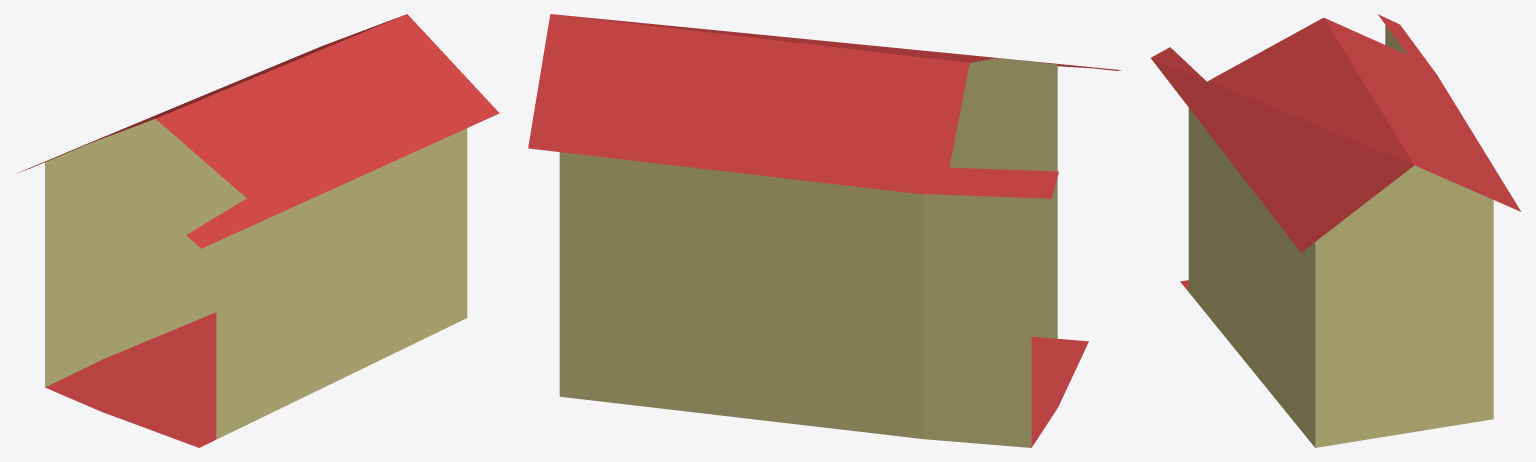
3 views of the same model, side by side, from view 1: azimuth 30°, elevation 25°; view 2: azimuth 150°, elevation 25°; view 3: azimuth 270°, elevation 25° (orthographic). The views are drawn at different scales.
Bounding box in the file's own units: 16.67 × 11.99 × 9.88.
